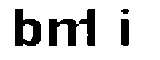b: (9, 6, 43, 50)
i: (117, 3, 135, 45)
l: (88, 6, 104, 53)
m: (48, 15, 91, 50)
